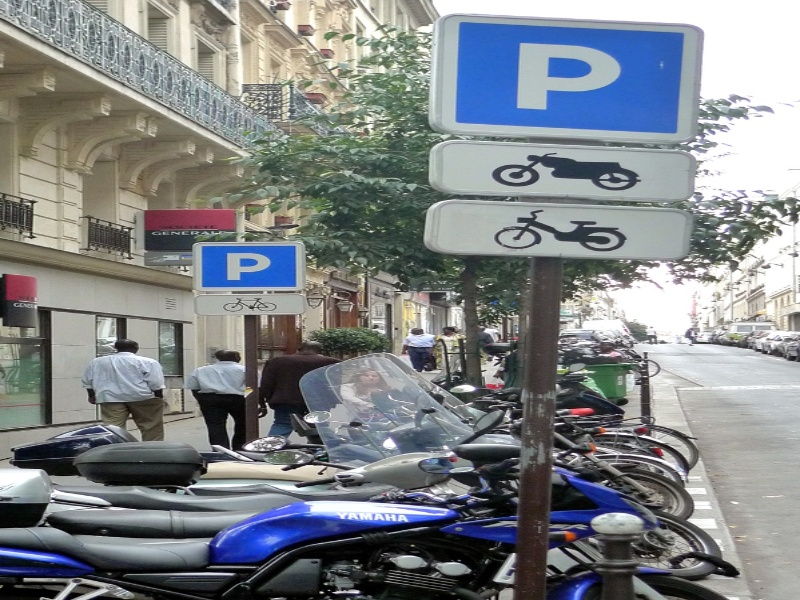parking: (426, 18, 694, 254), (188, 243, 308, 320)
